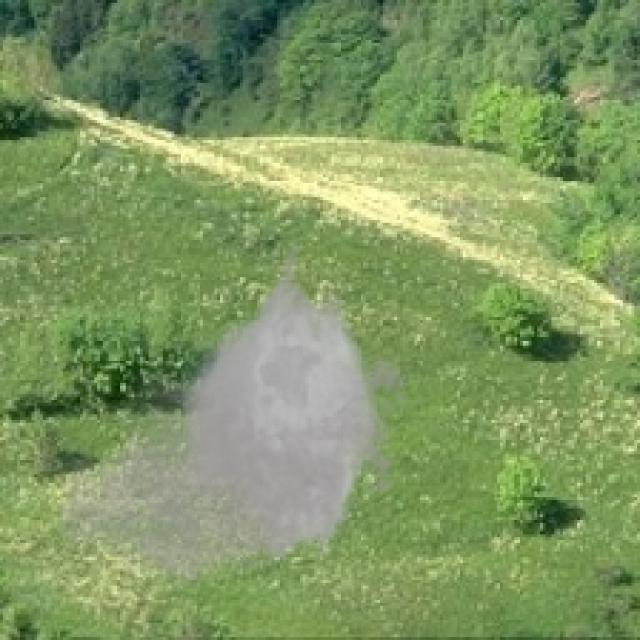Smoke: (51, 231, 420, 600)
